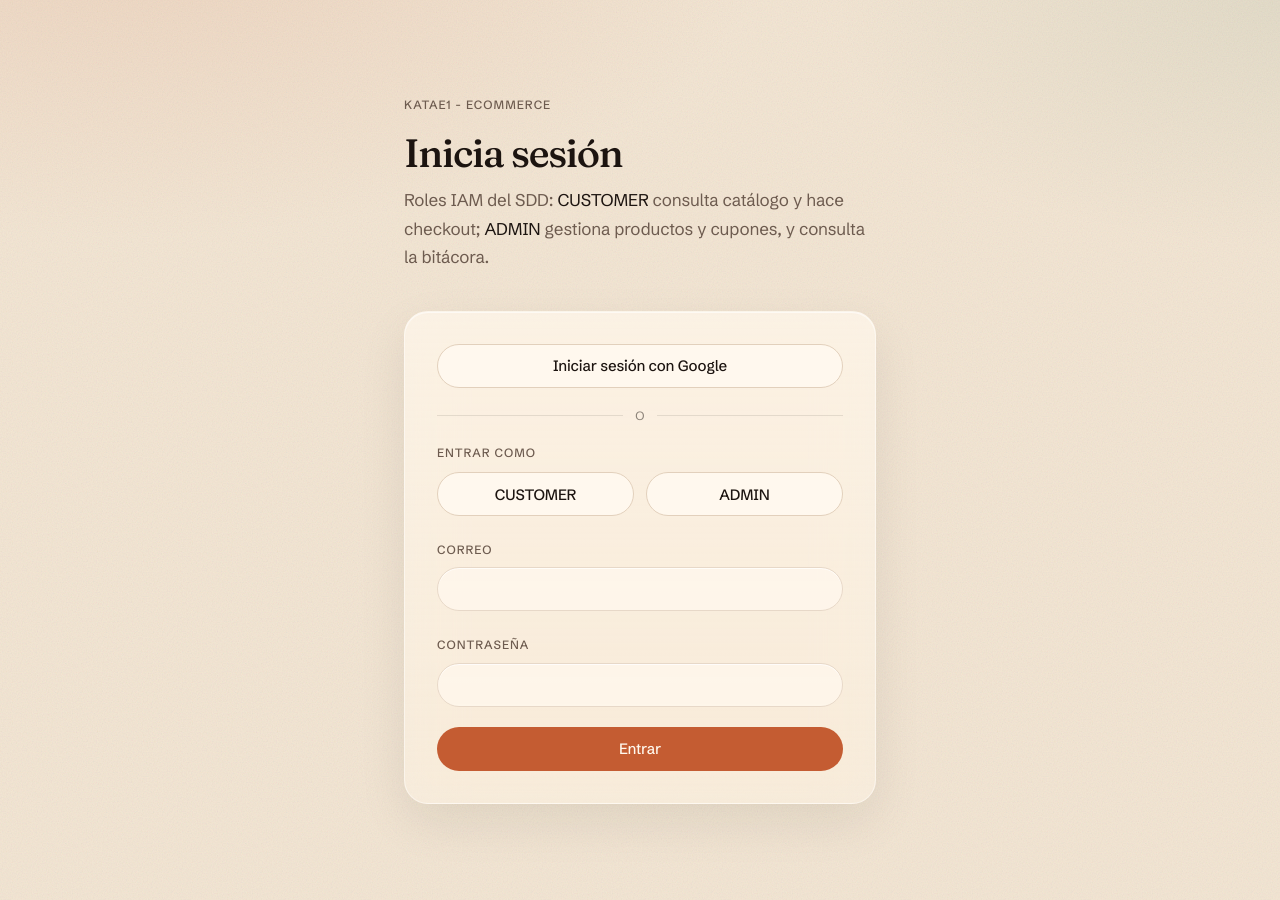
Test: login layers › preloads CUSTOMER and enters the sala
What coordinates should you click on to do the following:
click the button "CUSTOMER"
I would click on:
 (536, 494)
Its box is x1=437 y1=472 x2=634 y2=516.
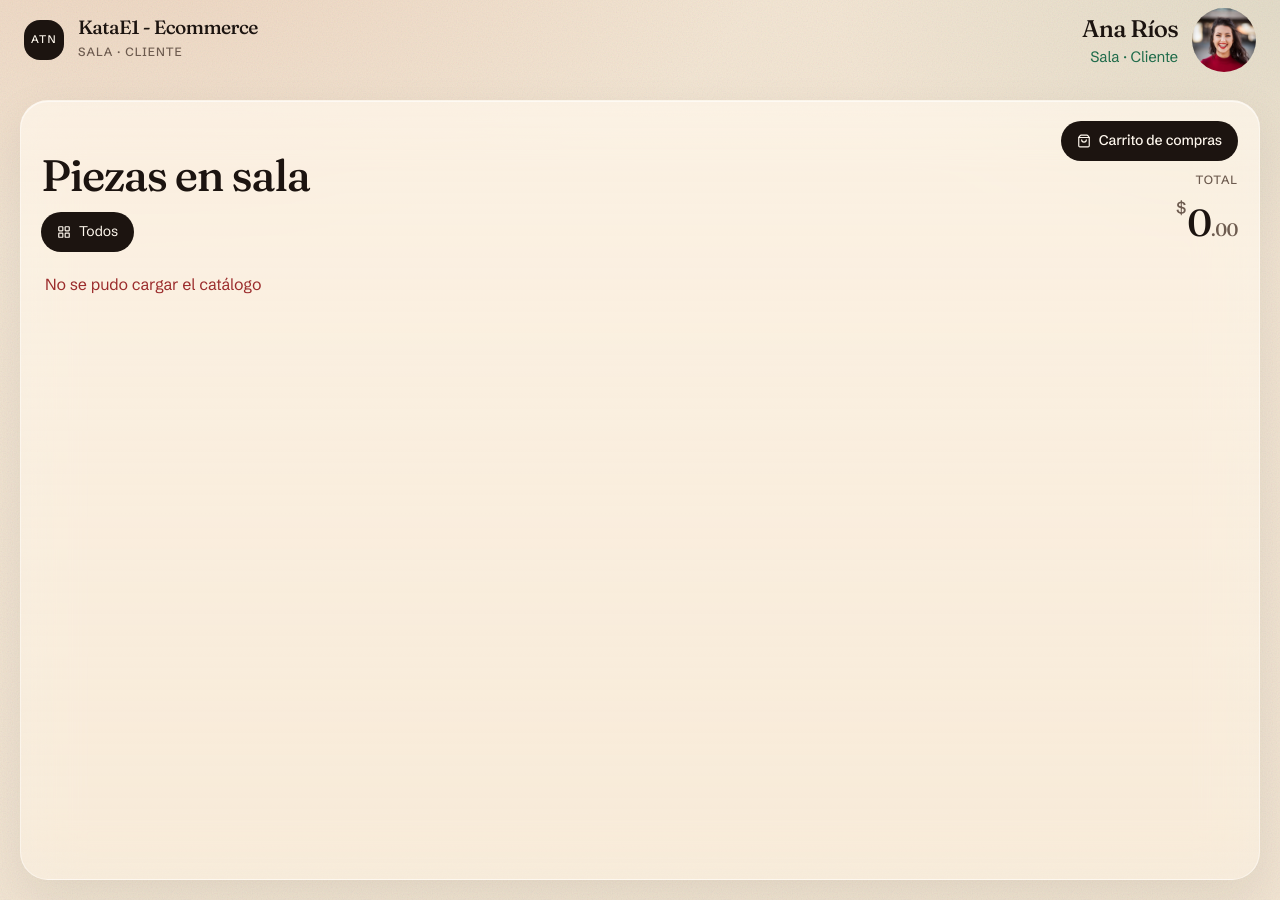
Now the heading "Piezas en sala" is shown, box x1=41 y1=148 x2=310 y2=202
